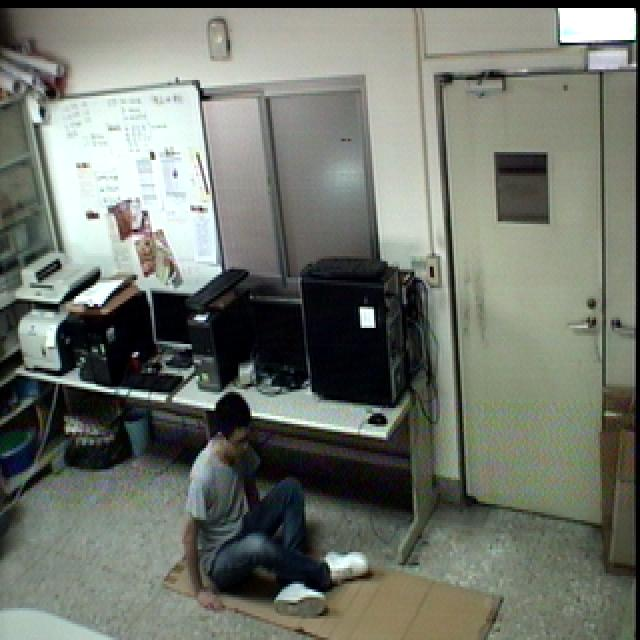sit: (178, 383, 372, 628)
